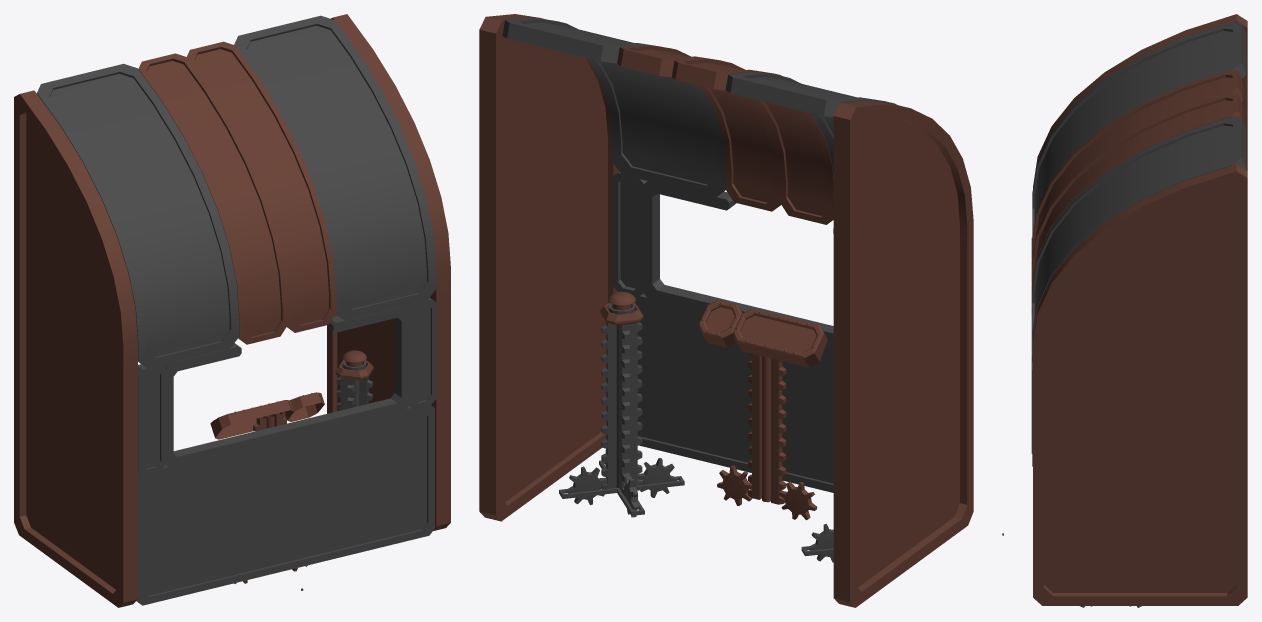
Rendered from BC_barricadeMK4Mock.fbx.
The picture shows the model from 3 angles, left to right: view 1: azimuth 30°, elevation 25°; view 2: azimuth 150°, elevation 25°; view 3: azimuth 270°, elevation 25°; orthographic projection. The views are drawn at different scales.
Parts seen in each view (by area): view 1: polySurface16, pCube4, polySurface15, polySurface7, polySurface18, polySurface14, polySurface17, polySurface10, pCube3, pCube2, BC_consolePickupStatus_0002:pSphere12, pCylinder4; view 2: polySurface16, polySurface17, pCube4, polySurface7, pCylinder4 (×2), polySurface14, polySurface18, BC_consolePickupStatus_0002:pSphere12, polySurface10, polySurface15, pCube2, pCube1 (+4 smaller); view 3: polySurface17, polySurface7, polySurface15, polySurface14, polySurface18, polySurface16.
Part boxes in pixels (<box>): polySurface16: <box>14,90,137,607</box>; pCube4: <box>136,404,434,605</box>; polySurface15: <box>37,63,239,368</box>; polySurface7: <box>234,15,436,320</box>; polySurface18: <box>138,53,287,344</box>; polySurface14: <box>187,41,335,332</box>; polySurface17: <box>327,14,450,530</box>; polySurface10: <box>162,306,408,468</box>; pCube3: <box>138,364,165,474</box>; pCube2: <box>405,297,436,408</box>; BC_consolePickupStatus_0002:pSphere12: <box>210,392,324,439</box>; pCylinder4: <box>336,377,372,410</box>; polySurface16: <box>833,100,973,607</box>; polySurface17: <box>479,14,619,521</box>; pCube4: <box>634,293,833,492</box>; polySurface7: <box>502,17,725,197</box>; pCylinder4 (×2): <box>601,322,786,504</box>; polySurface14: <box>617,44,781,211</box>; polySurface18: <box>671,58,833,224</box>; BC_consolePickupStatus_0002:pSphere12: <box>698,300,827,367</box>; polySurface10: <box>643,181,833,344</box>; polySurface15: <box>725,71,896,175</box>; pCube2: <box>612,171,647,296</box>; pCube1: <box>559,460,684,515</box>; polySurface17: <box>1033,164,1247,605</box>; polySurface7: <box>1032,116,1246,361</box>; polySurface15: <box>1032,22,1246,236</box>; polySurface14: <box>1031,93,1243,313</box>; polySurface18: <box>1031,70,1243,264</box>; polySurface16: <box>1033,14,1247,187</box>.
Size of the model in its own units: 208 by 281 by 137.
